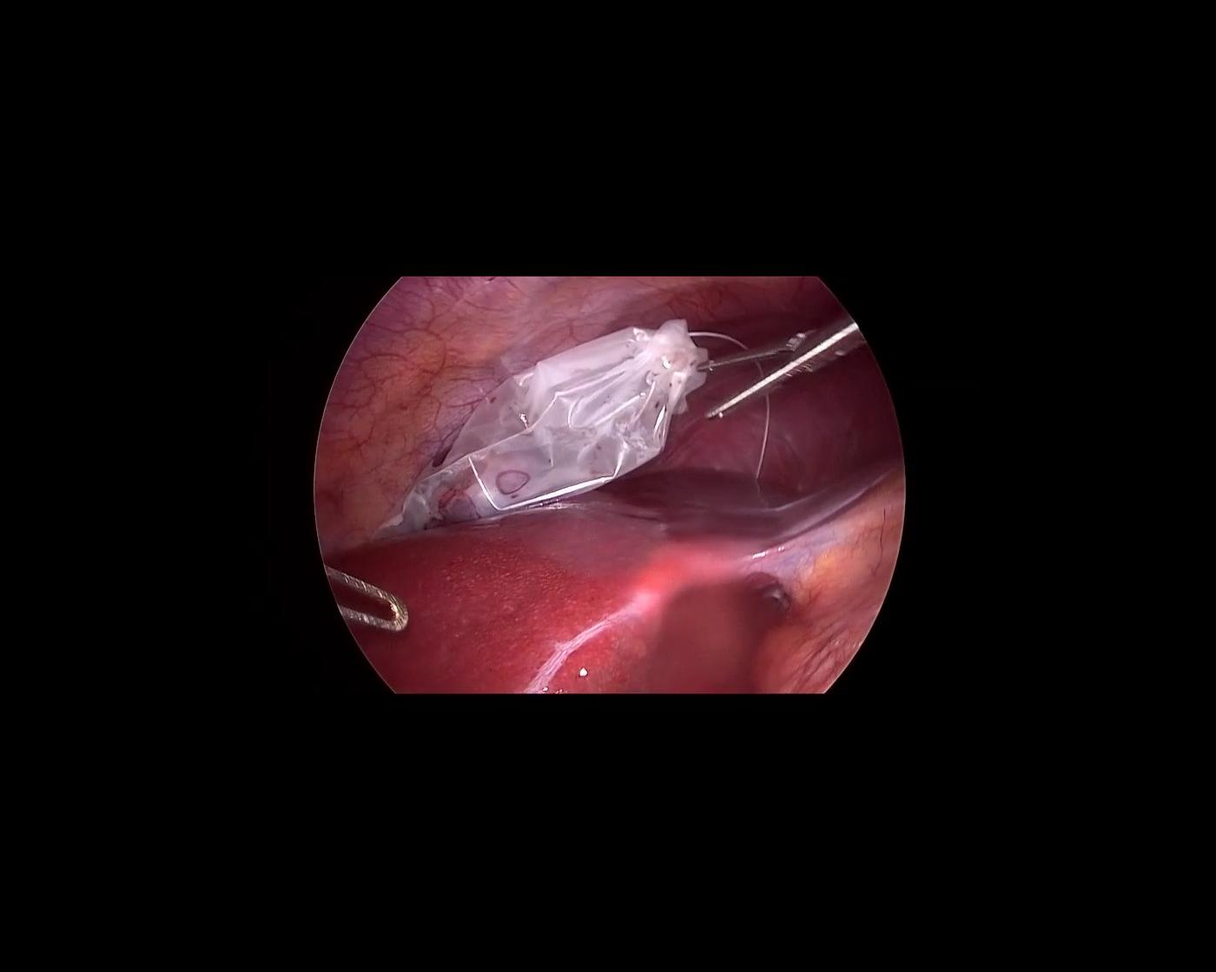Bag: (331, 310, 734, 547)
Forceps: (680, 289, 866, 428), (305, 562, 415, 644)
Liver: (327, 467, 804, 693)
